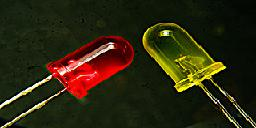LED: (142, 25, 256, 124), (36, 33, 137, 105)
